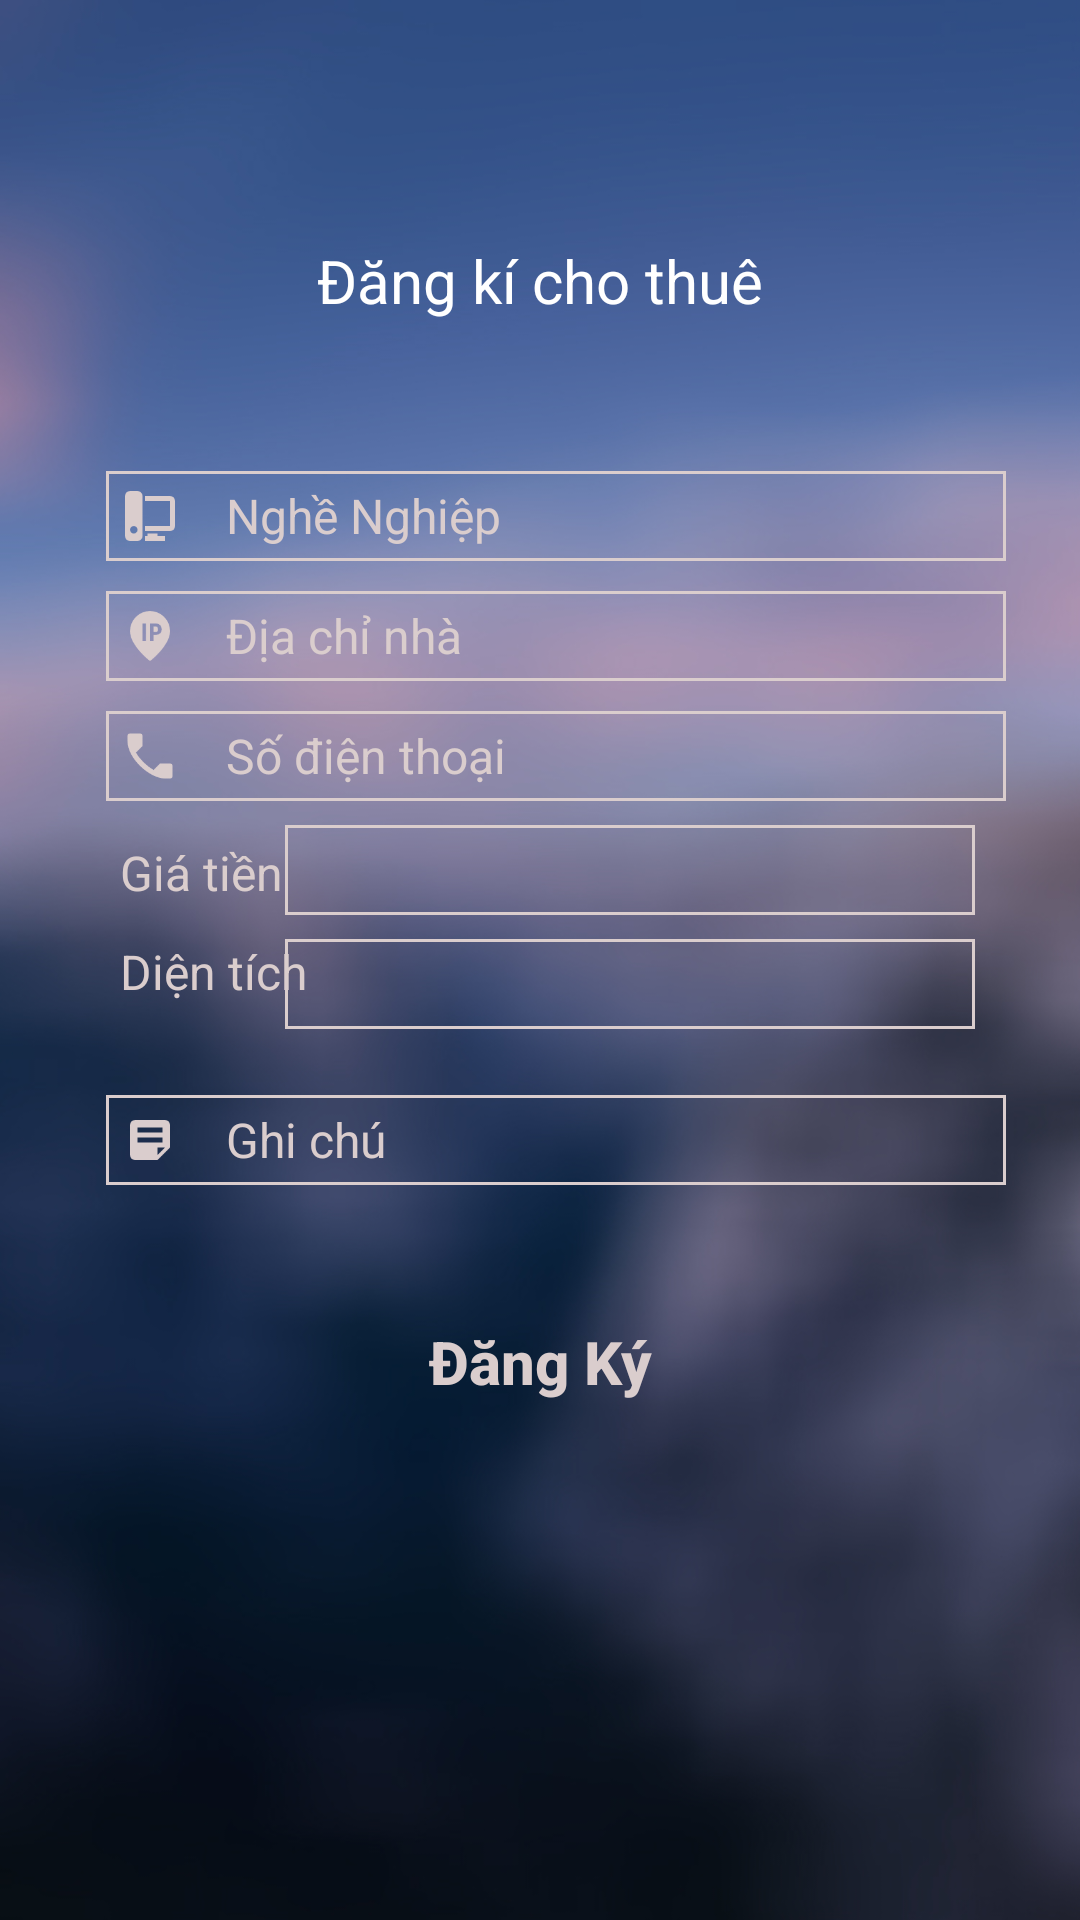

Where to tap for icons on this 1080 × 1920 app screen, as [x,y]:
address: [150,636]
note: [150,1140]
phone: [150,756]
workstation: [150,516]
